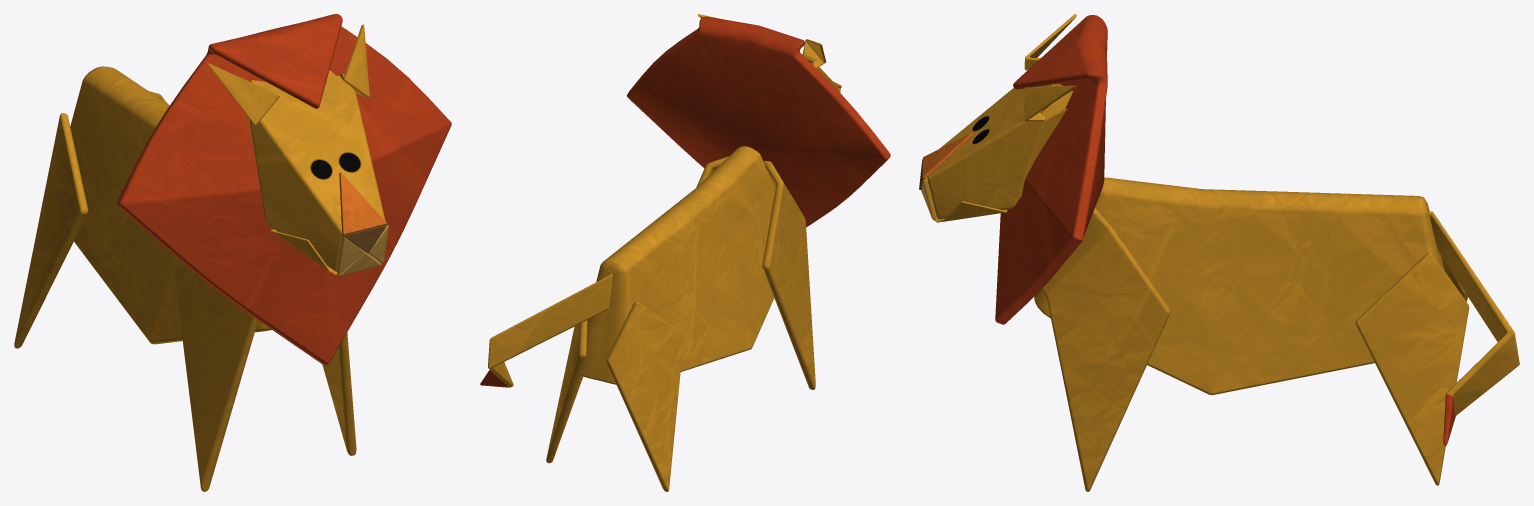
The model's file is lion_wL.glb.
3 renders of one model, left to right at view 1: azimuth 30°, elevation 25°; view 2: azimuth 150°, elevation 25°; view 3: azimuth 270°, elevation 25°, orthographic. The views are drawn at different scales.
Parts seen in each view (by area): view 1: node_id47; view 2: node_id47; view 3: node_id47.
Boxes of the visible parts, x1,y1,x2,y2 form: node_id47: [14, 14, 451, 491]; node_id47: [480, 14, 890, 491]; node_id47: [919, 14, 1519, 491].
Size of the model in its own units: 1.76 by 2.24 by 2.94.
1 material, 1 textured.
